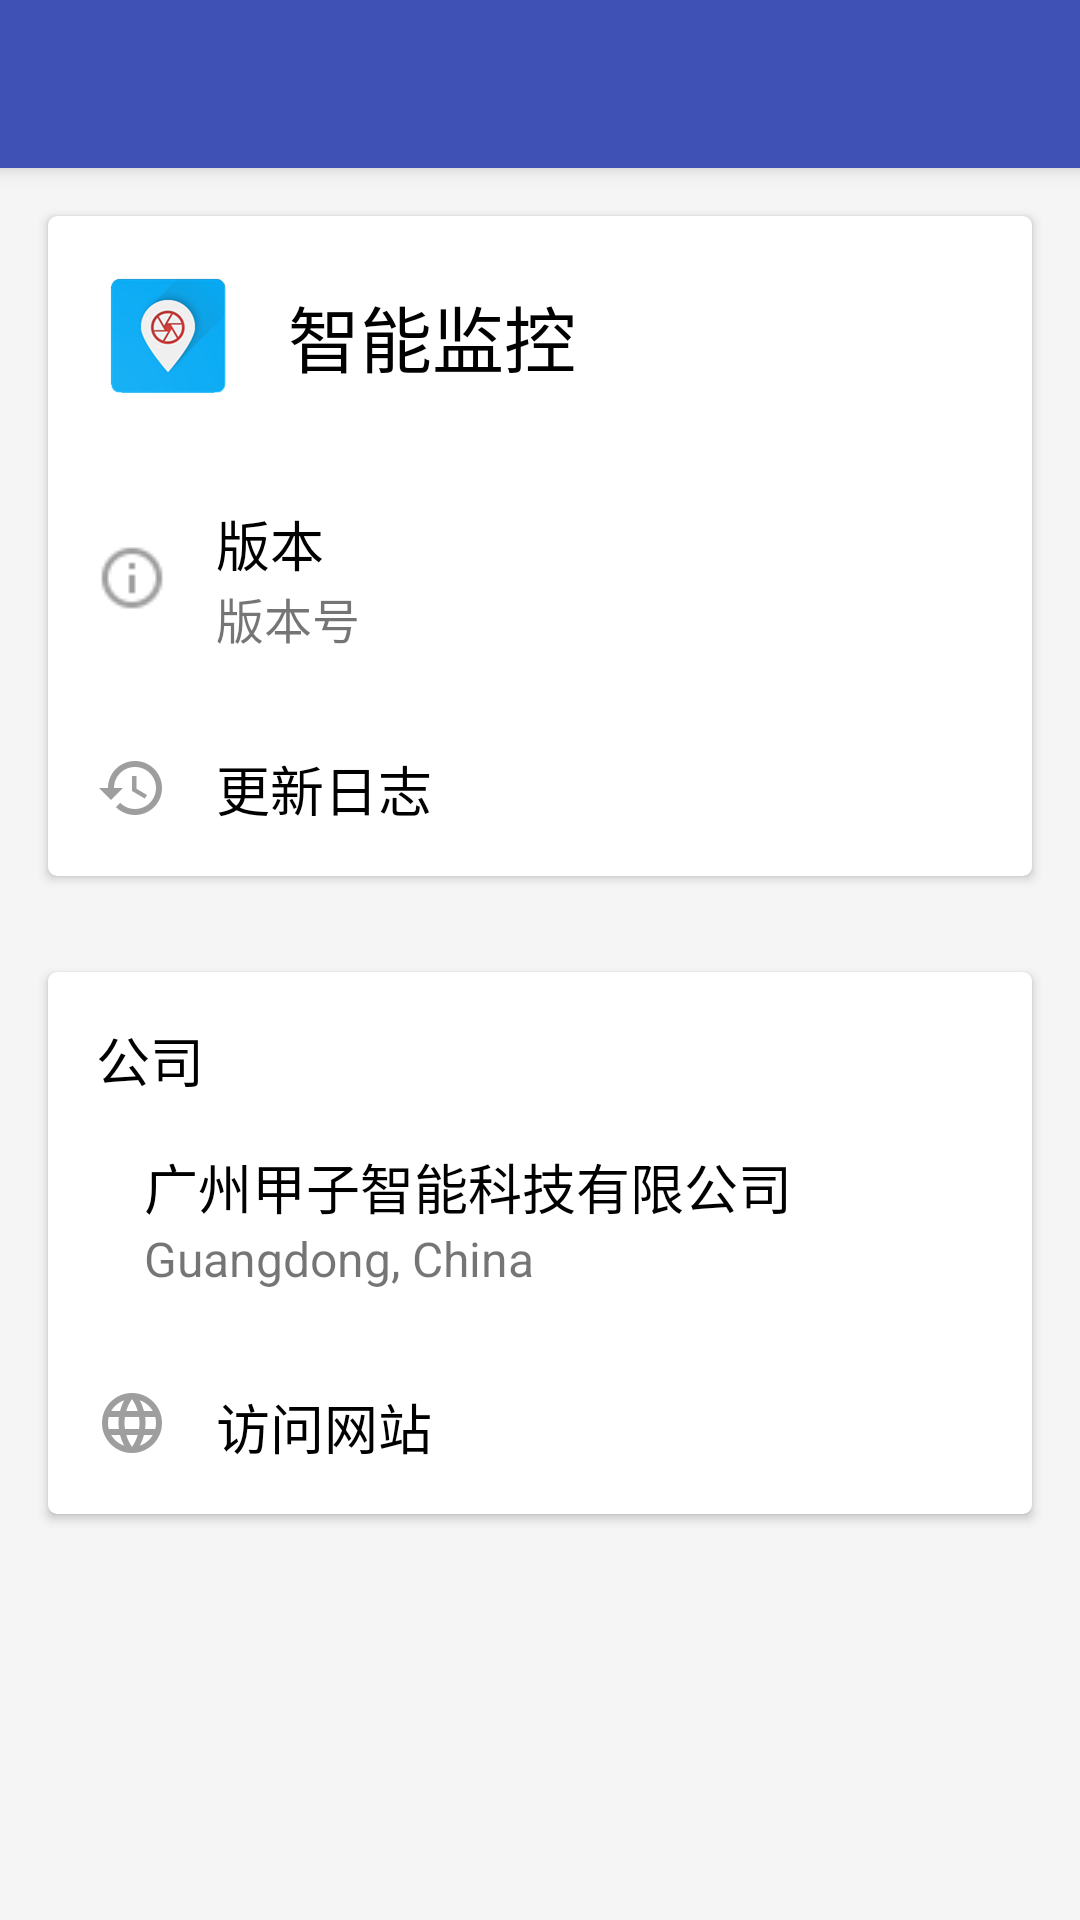

Named icons in this screenshot (1080*1920) and their bounding boxes, box=[x1, y1, x2, y2]:
info: box=[101, 547, 163, 609]
language: box=[102, 1393, 162, 1453]
restore: box=[99, 761, 162, 815]
